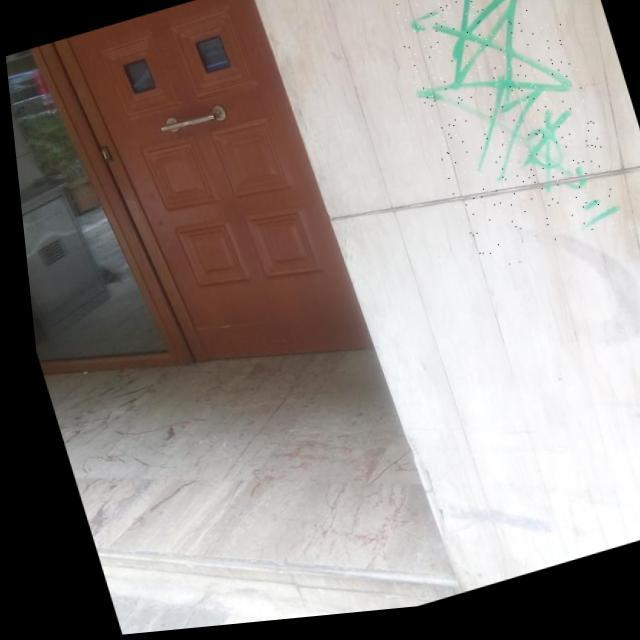-: (376, 0, 620, 280)
